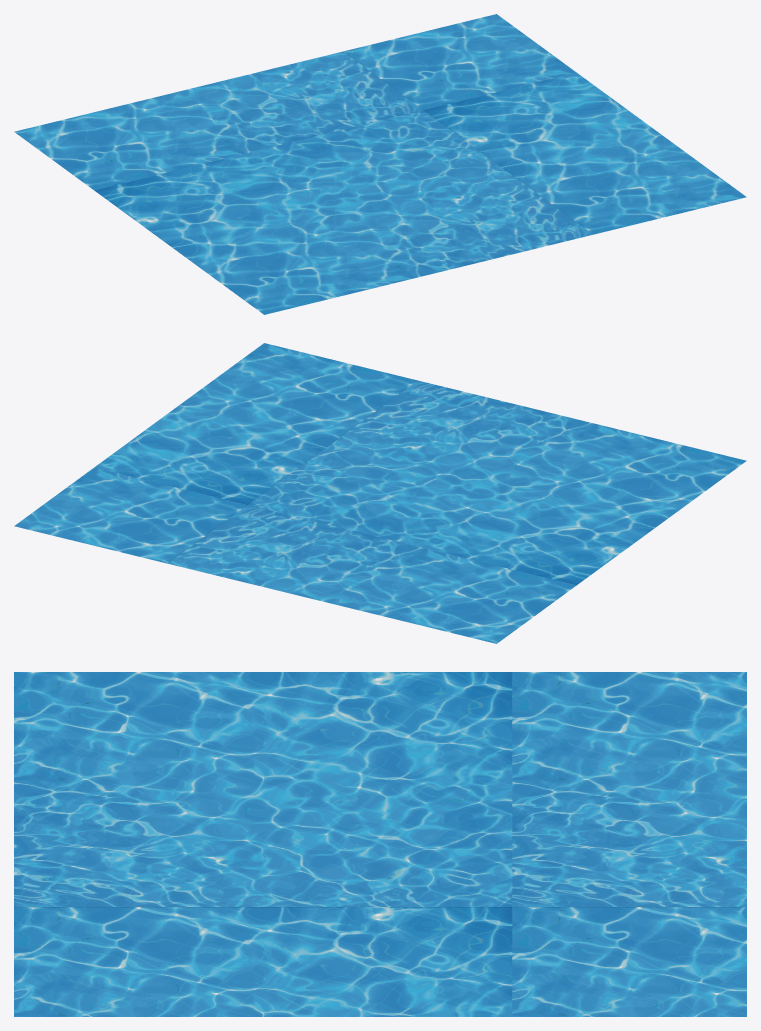
Rendered from Agua.obj.
3 renders of one model, top to bottom at view 1: azimuth 30°, elevation 25°; view 2: azimuth 150°, elevation 25°; view 3: azimuth 270°, elevation 25°, orthographic. The views are drawn at different scales.
Visible parts, largest first — view 1: Sea:pPlane1; view 2: Sea:pPlane1; view 3: Sea:pPlane1.
Boxes of the visible parts, left/top/right/bottom form: Sea:pPlane1: left=14, top=14, right=746, bottom=314; Sea:pPlane1: left=14, top=343, right=746, bottom=643; Sea:pPlane1: left=14, top=672, right=746, bottom=1016.
Size of the model in its own units: 72.39 by 0 by 65.01.
1 material, 1 textured.
